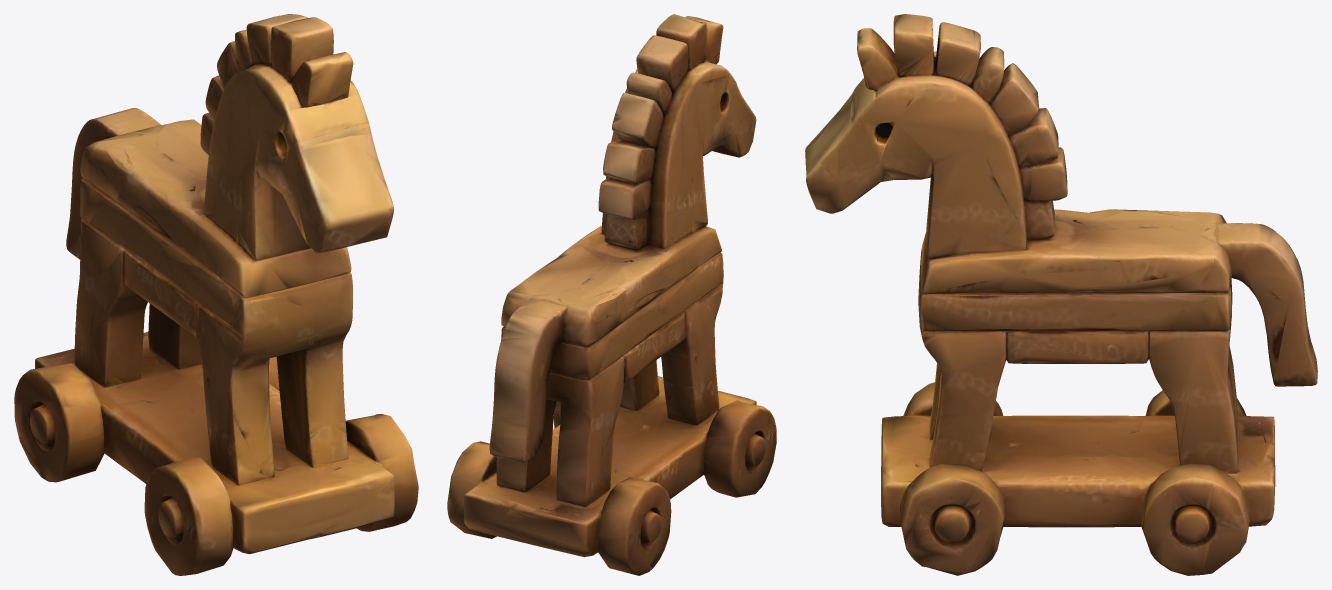
File: trojan_pbr.glb
3 views of the same model, side by side, from view 1: azimuth 30°, elevation 25°; view 2: azimuth 150°, elevation 25°; view 3: azimuth 270°, elevation 25° (orthographic). The views are drawn at different scales.
Visible parts, largest first — view 1: model; view 2: model; view 3: model.
Part boxes in pixels (left/top/right/bottom): model: left=14, top=14, right=418, bottom=575; model: left=447, top=14, right=776, bottom=575; model: left=805, top=14, right=1317, bottom=575.
Bounding box in the file's own units: 0.7836 × 1.74 × 1.61.
Materials: 1 (1 with a texture image).
